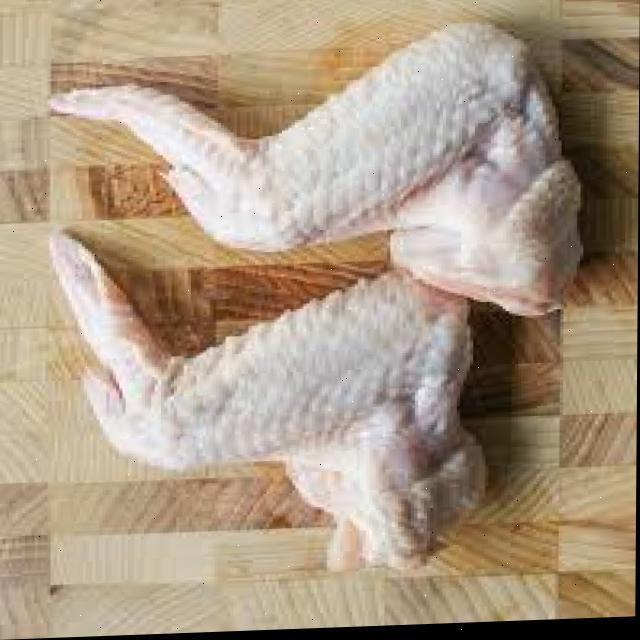wing: (27, 11, 596, 338), (35, 210, 486, 564)
